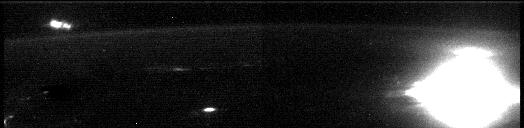negative: (448, 45, 497, 60)
